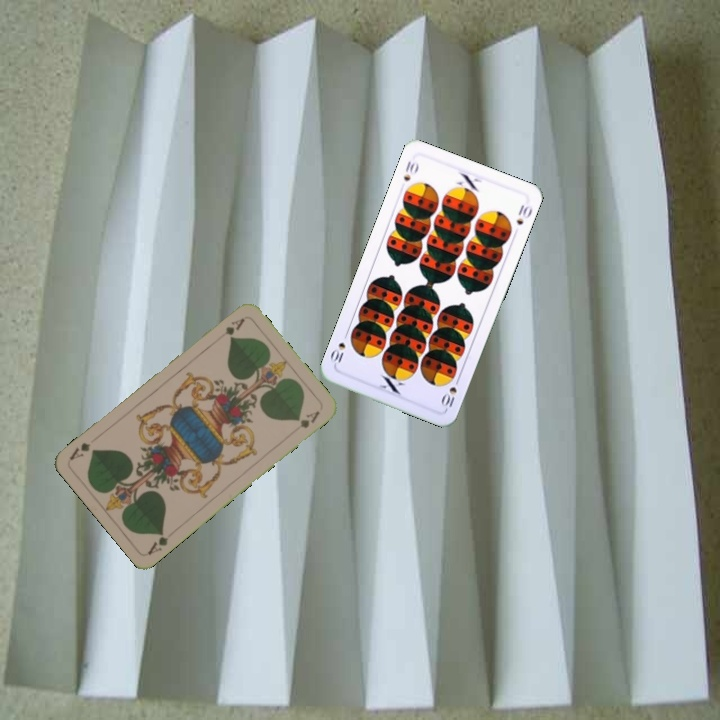GA: (213, 314, 247, 344), (144, 527, 171, 557)
S10: (438, 373, 463, 410), (399, 156, 421, 184)
